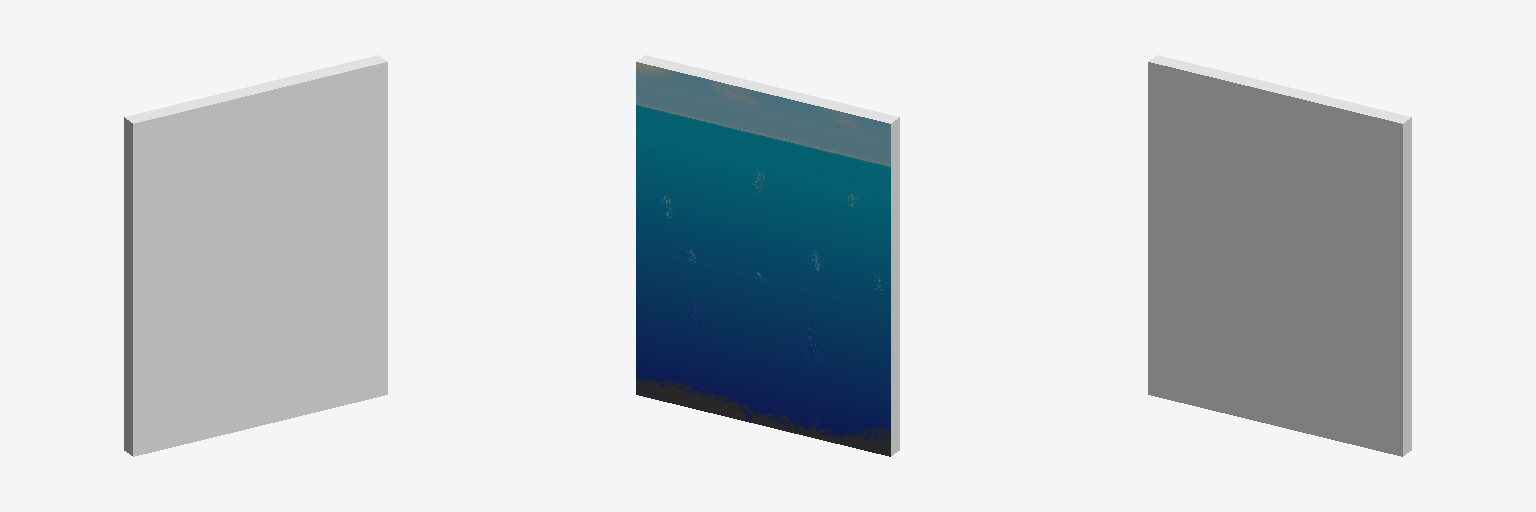
The picture shows the model from 3 angles: view 1: azimuth 30°, elevation 25°; view 2: azimuth 150°, elevation 25°; view 3: azimuth 330°, elevation 25°; orthographic projection.
Visible parts, largest first — view 1: Cube; view 2: Cube; view 3: Cube.
Boxes of the visible parts, <box> form: Cube: <box>124,55,387,456</box>; Cube: <box>636,55,899,456</box>; Cube: <box>1148,55,1411,456</box>.
Size of the model in its own units: 80 by 100 by 5.
Materials: 1 (1 with a texture image).